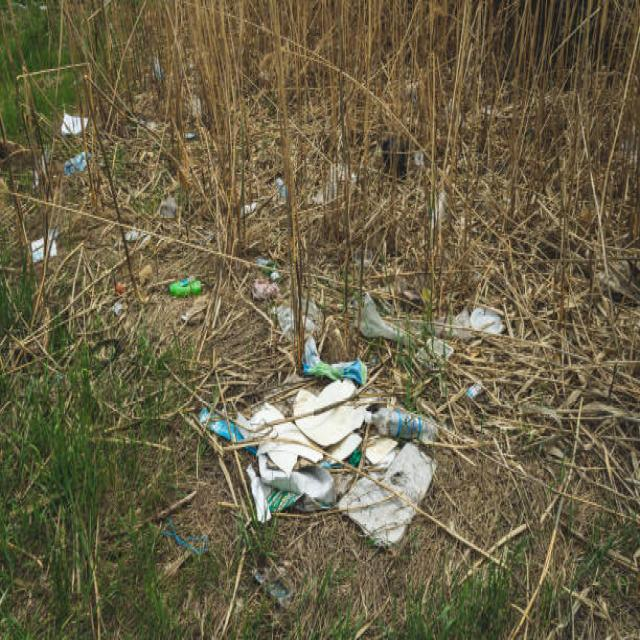plastic: (248, 358, 410, 546), (363, 300, 499, 345), (163, 276, 203, 297)
